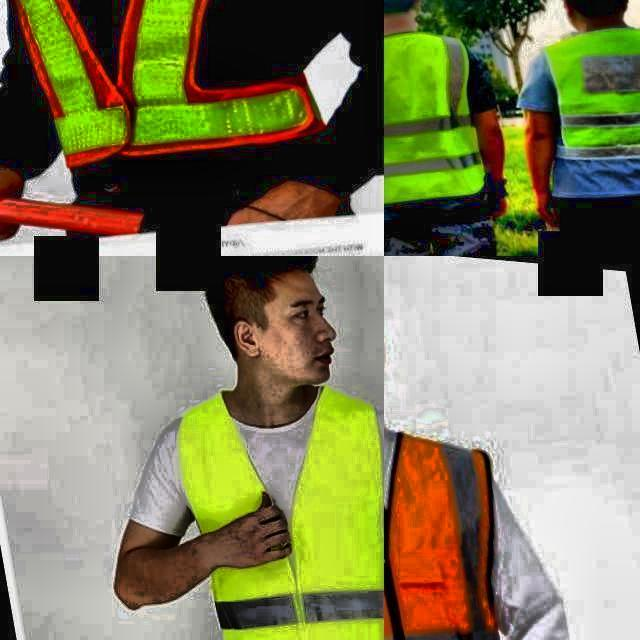safety_jacket: (0, 0, 340, 194), (171, 358, 384, 640), (384, 401, 542, 640), (384, 18, 494, 222), (543, 6, 640, 196)
